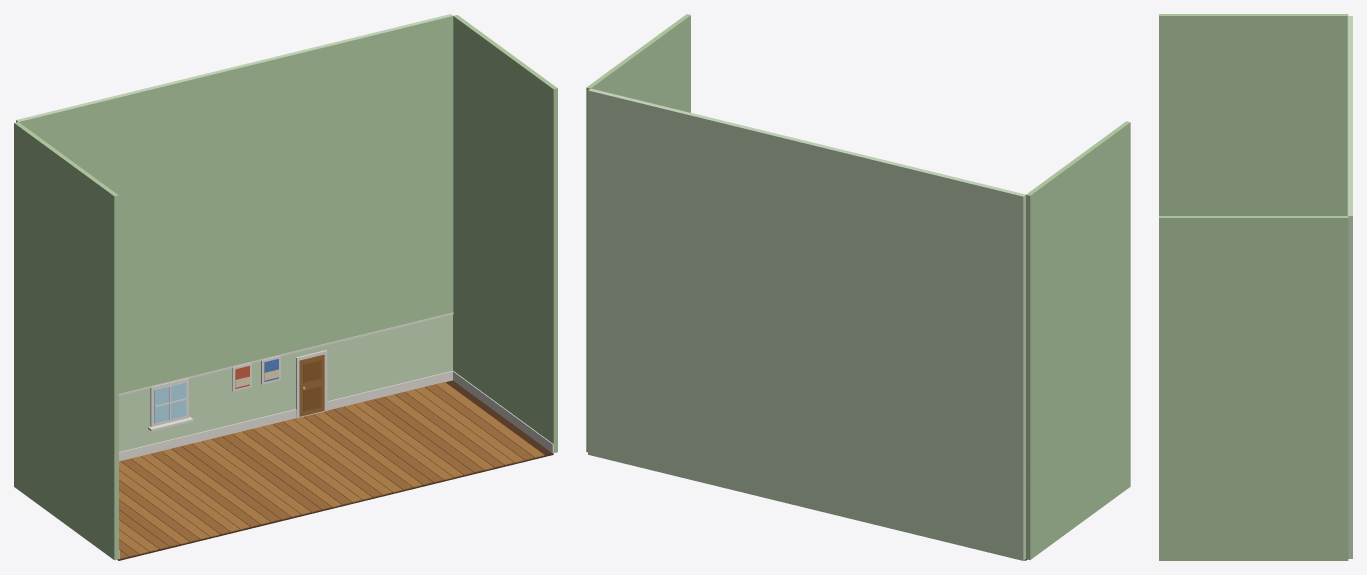
File: room_verde_wood.glb
The picture shows the model from 3 angles, left to right: view 1: azimuth 30°, elevation 25°; view 2: azimuth 150°, elevation 25°; view 3: azimuth 270°, elevation 25°; orthographic projection. The views are drawn at different scales.
Parts seen in each view (by area): view 1: room; view 2: room; view 3: room.
Boxes of the visible parts, <box> form: room: <box>14,14,557,560</box>; room: <box>586,14,1130,560</box>; room: <box>1159,14,1352,560</box>.
Size of the model in its own units: 30.6 by 24.11 by 12.3.
